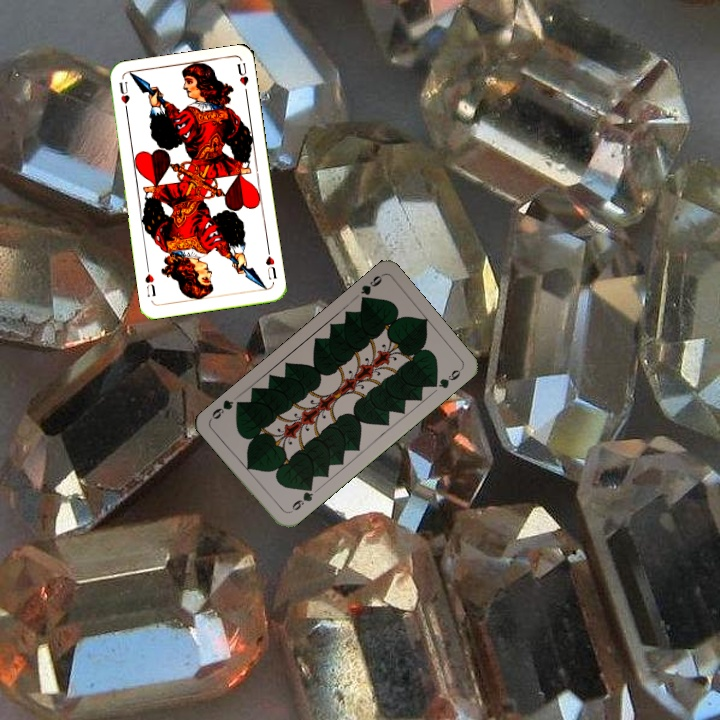G9: (285, 482, 315, 516), (356, 271, 385, 306)
HU: (115, 77, 132, 116), (262, 252, 279, 282)
